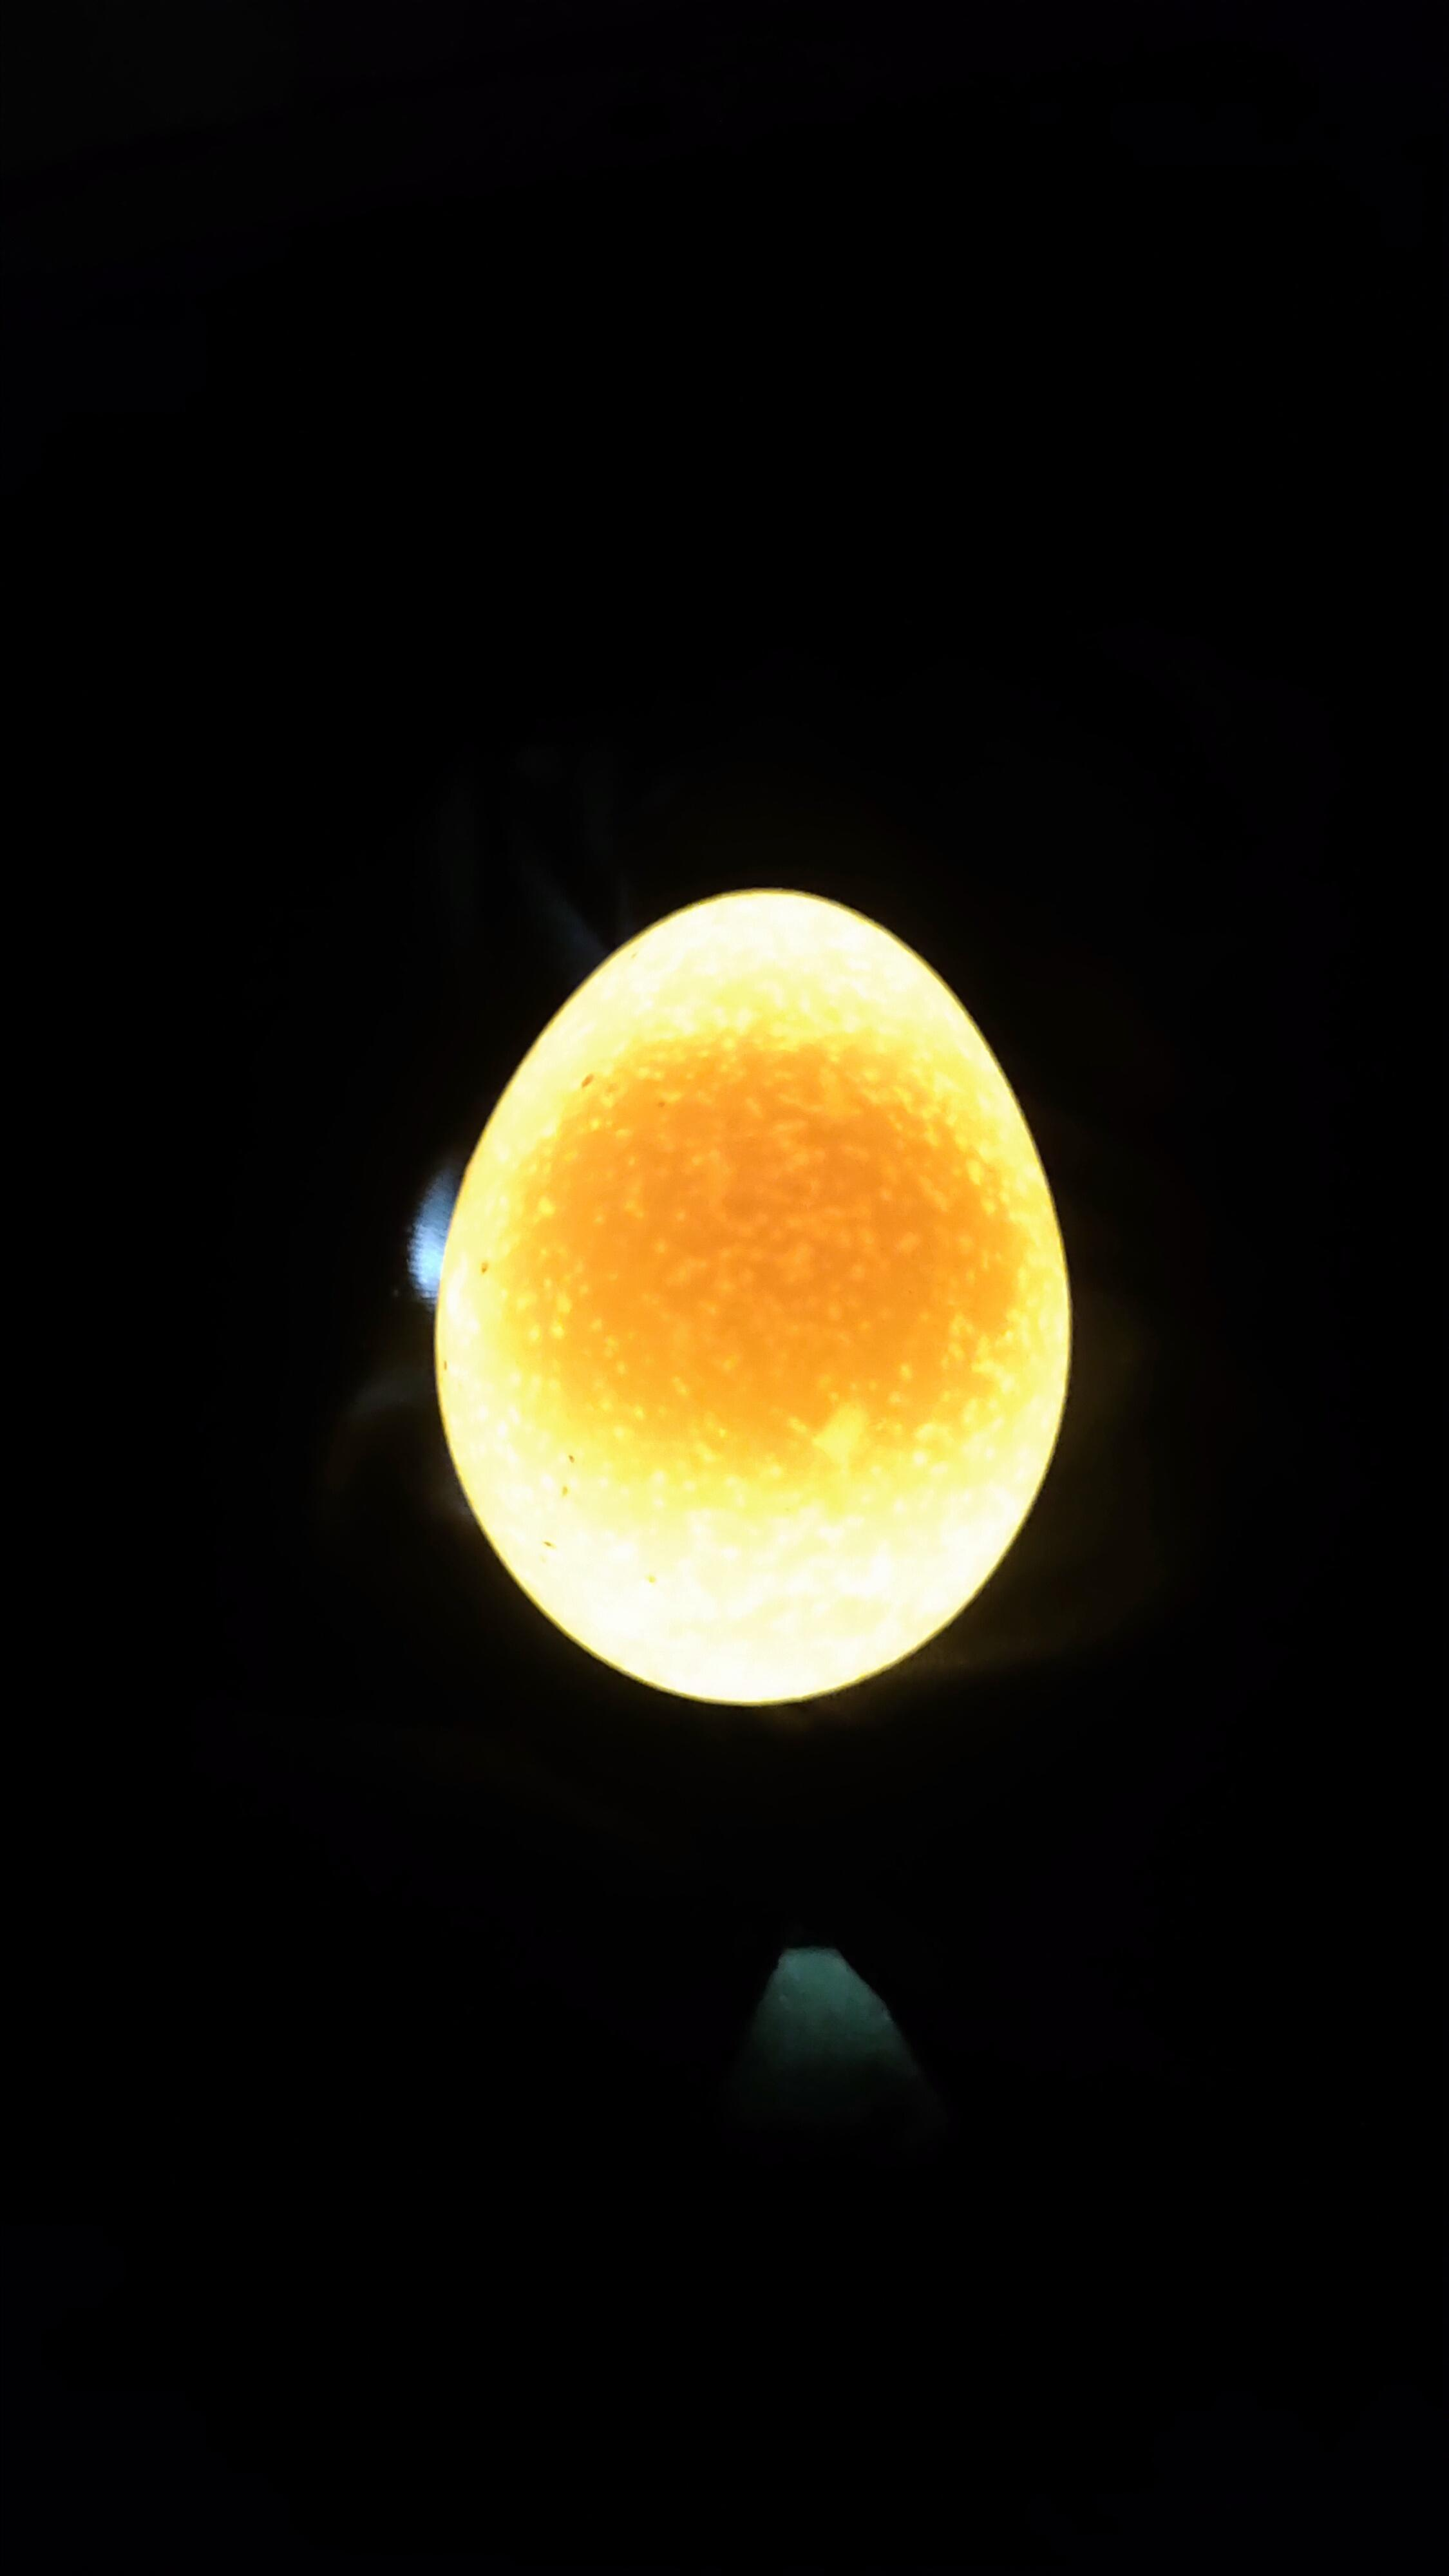Inedible: (405, 844, 1115, 1752)
